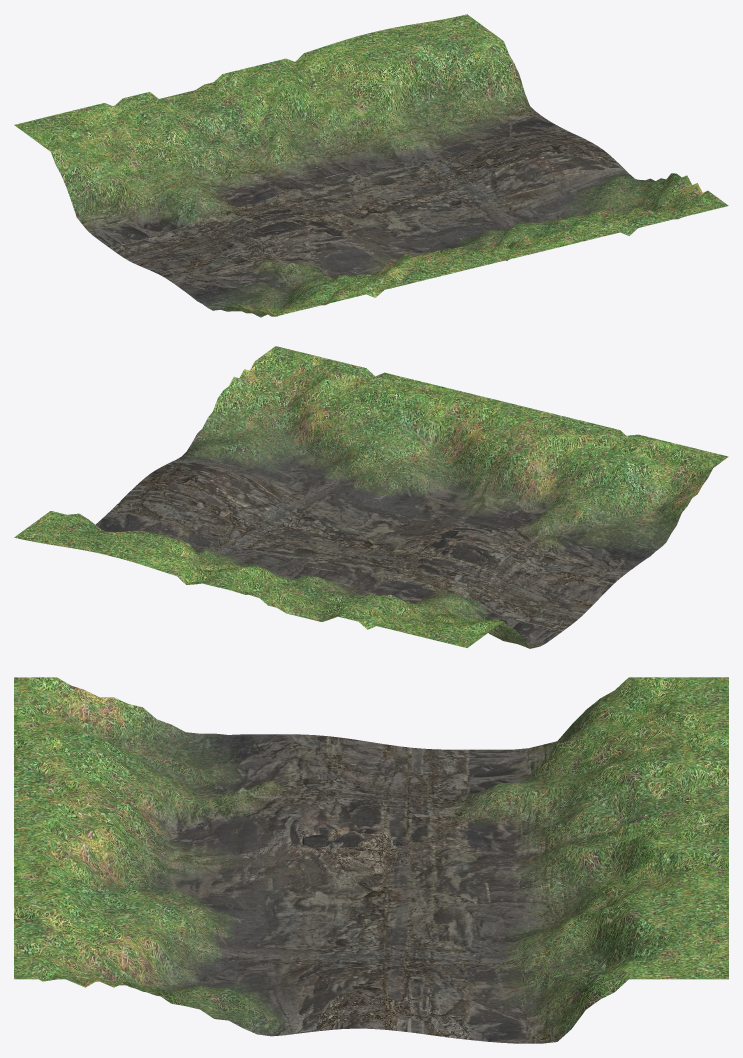
Rendered from Terrain.obj.
3 renders of one model, top to bottom at view 1: azimuth 30°, elevation 25°; view 2: azimuth 150°, elevation 25°; view 3: azimuth 270°, elevation 25°, orthographic. The views are drawn at different scales.
Parts seen in each view (by area): view 1: Plane001; view 2: Plane001; view 3: Plane001.
Part boxes in pixels (x1,y1,x2,y2): Plane001: [14, 14, 728, 317]; Plane001: [14, 346, 728, 648]; Plane001: [14, 677, 728, 1043].
Bounding box in the file's own units: 100 × 12.27 × 100.
Materials: 1 (1 with a texture image).
